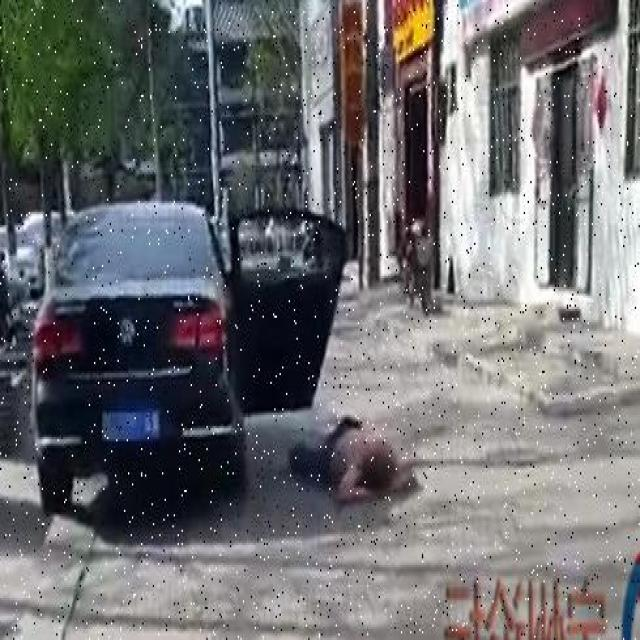fall: (290, 408, 423, 508)
